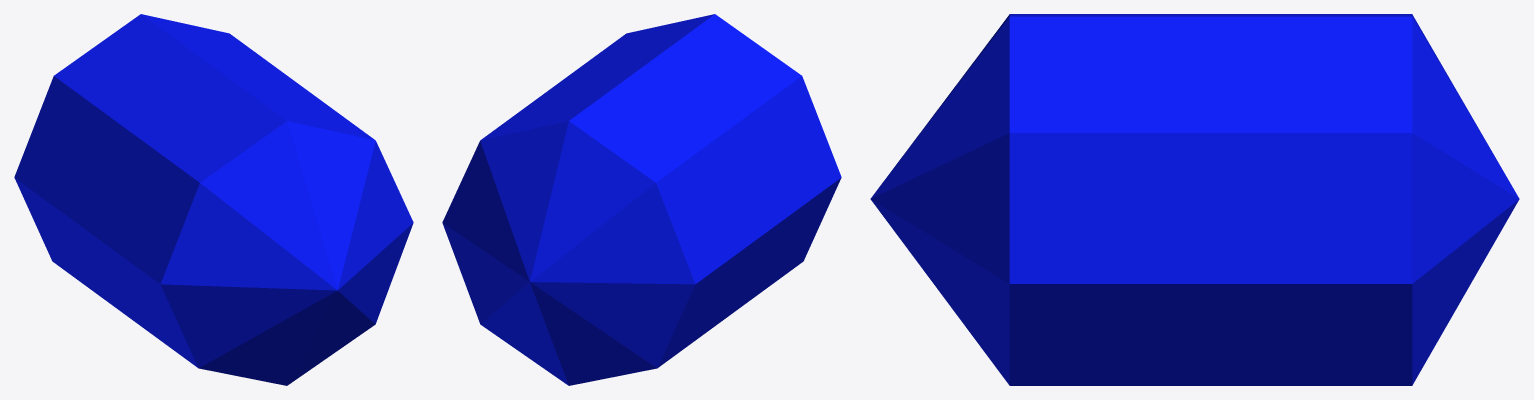
Rendered from PlayerBullet.obj.
3 views of the same model, side by side, from view 1: azimuth 30°, elevation 25°; view 2: azimuth 150°, elevation 25°; view 3: azimuth 270°, elevation 25° (orthographic). The views are drawn at different scales.
Parts seen in each view (by area): view 1: Cube; view 2: Cube; view 3: Cube.
Part boxes in pixels (x1,y1,x2,y2): Cube: [14, 14, 413, 385]; Cube: [442, 14, 841, 385]; Cube: [870, 14, 1519, 385].
Bounding box in the file's own units: 0.9051 × 0.9051 × 1.46.
1 material, 1 textured.
